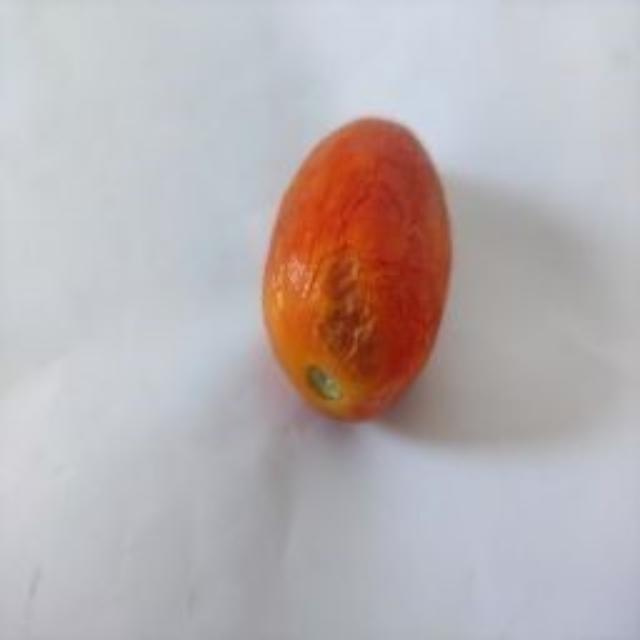defect: (264, 104, 451, 422)
